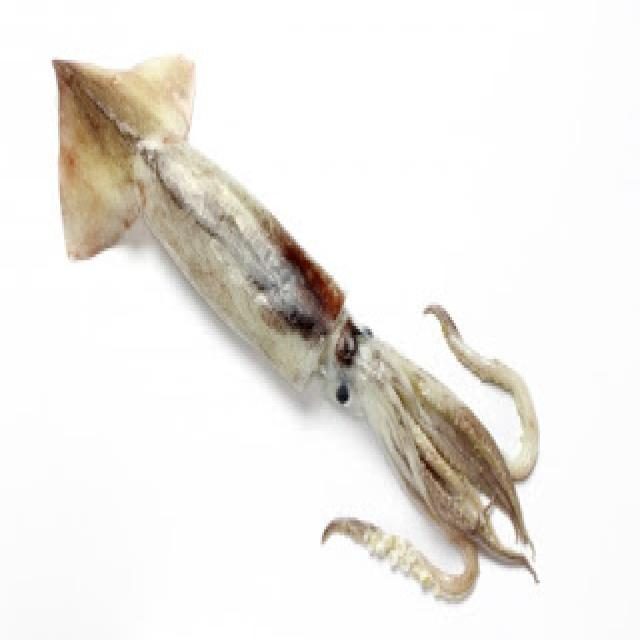SQUID: (38, 34, 553, 622)
